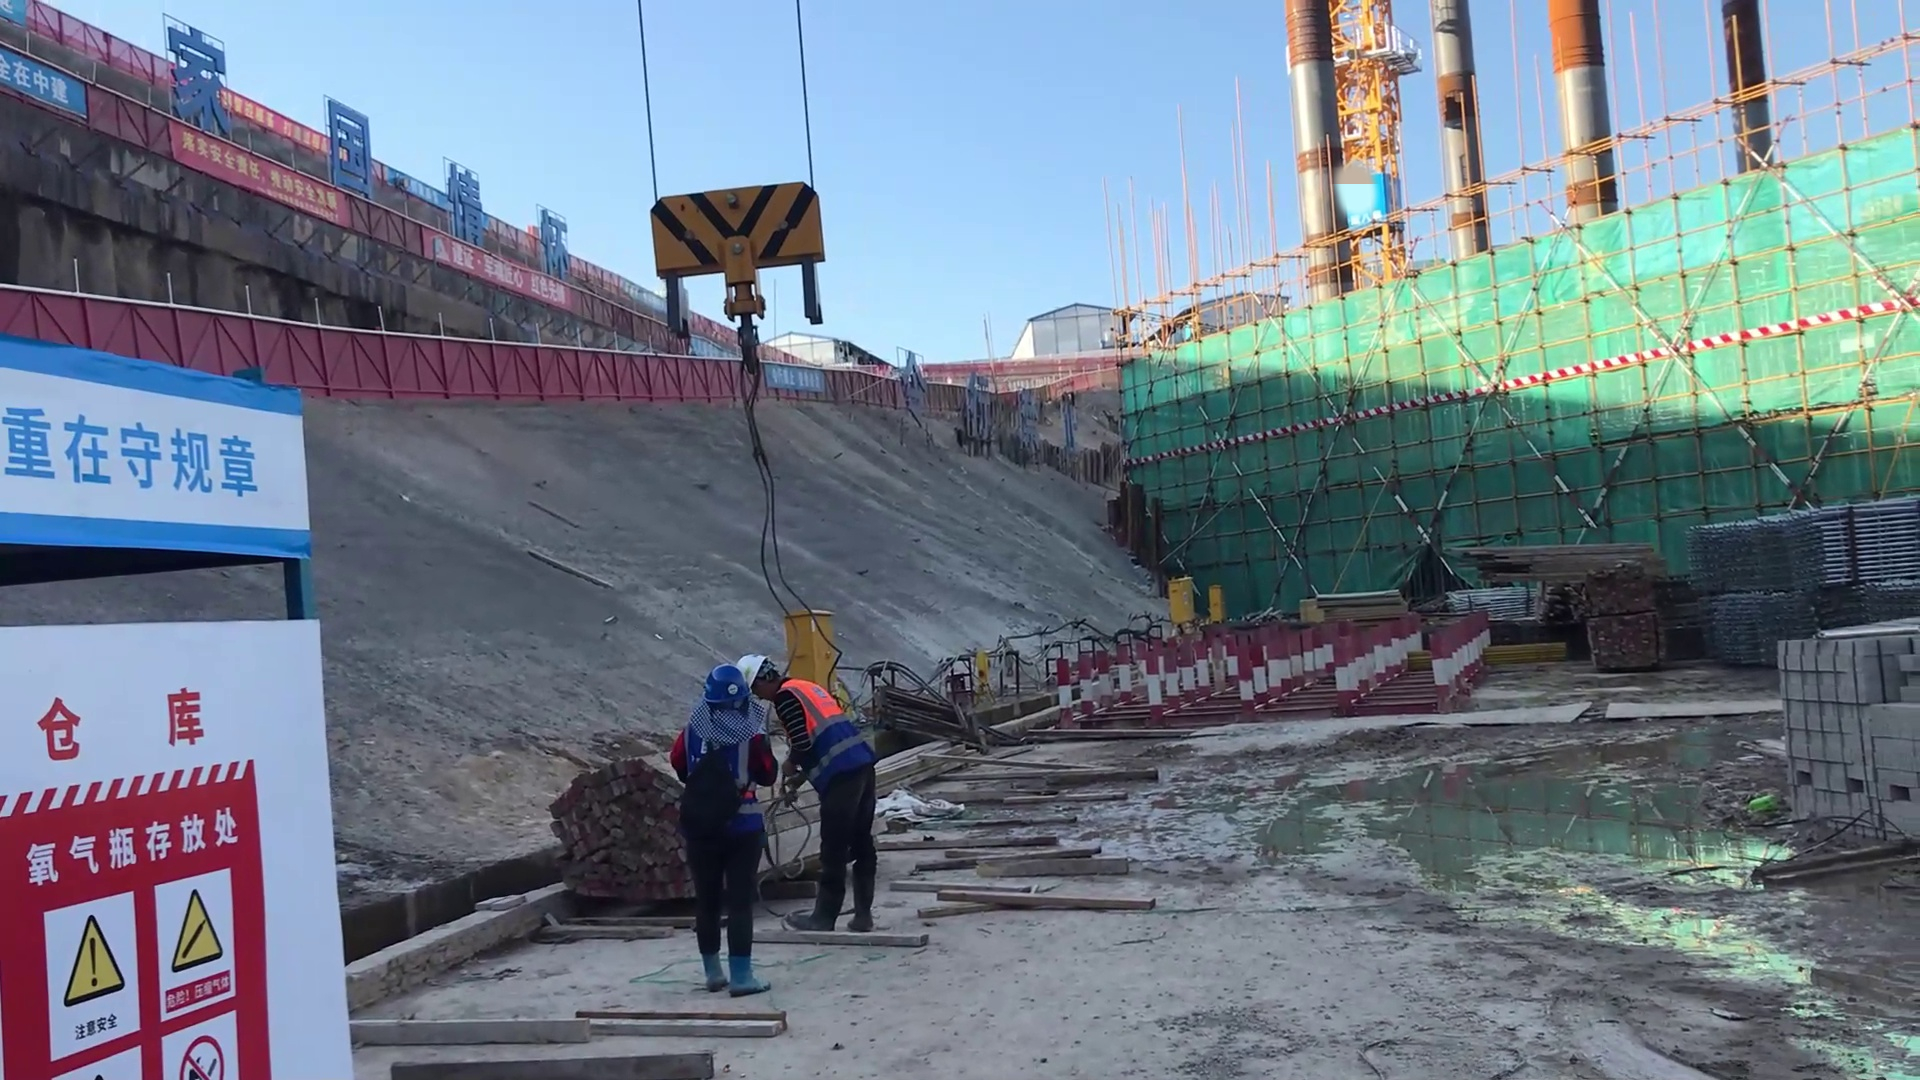brick: (1773, 627, 1920, 852)
ebox: (783, 611, 837, 673), (1162, 574, 1199, 630), (1205, 588, 1222, 625)
fence: (307, 313, 662, 398), (662, 359, 755, 400)
helmet: (698, 667, 755, 710), (734, 650, 778, 701)
hook: (659, 178, 815, 342)
person: (743, 643, 884, 940), (671, 660, 775, 1004)
scaffold: (1707, 500, 1920, 606)
slogan: (7, 776, 292, 1080), (1, 393, 282, 507), (171, 94, 374, 249)
vest: (781, 679, 851, 741)
wood: (537, 756, 675, 920), (1463, 527, 1693, 596)
